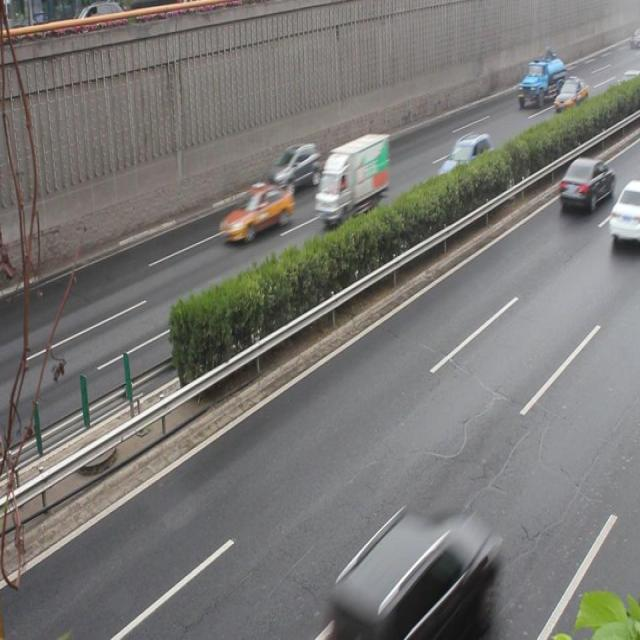bus: (315, 133, 388, 218), (516, 55, 562, 105)
car: (335, 512, 494, 640), (220, 180, 292, 244), (558, 154, 612, 210), (439, 132, 492, 187), (267, 142, 319, 189), (608, 177, 640, 238), (608, 70, 640, 115), (553, 77, 586, 113)
